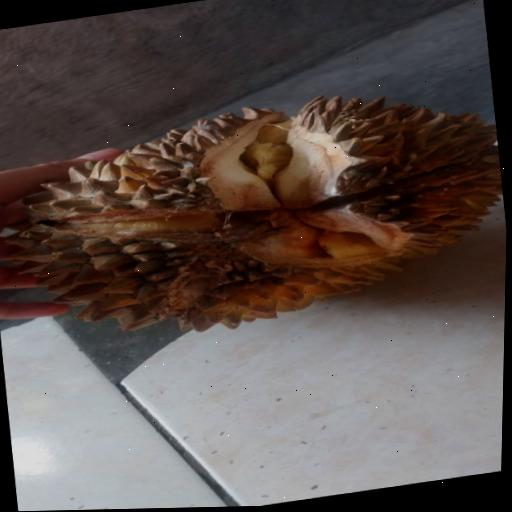rot: (0, 58, 510, 378)
